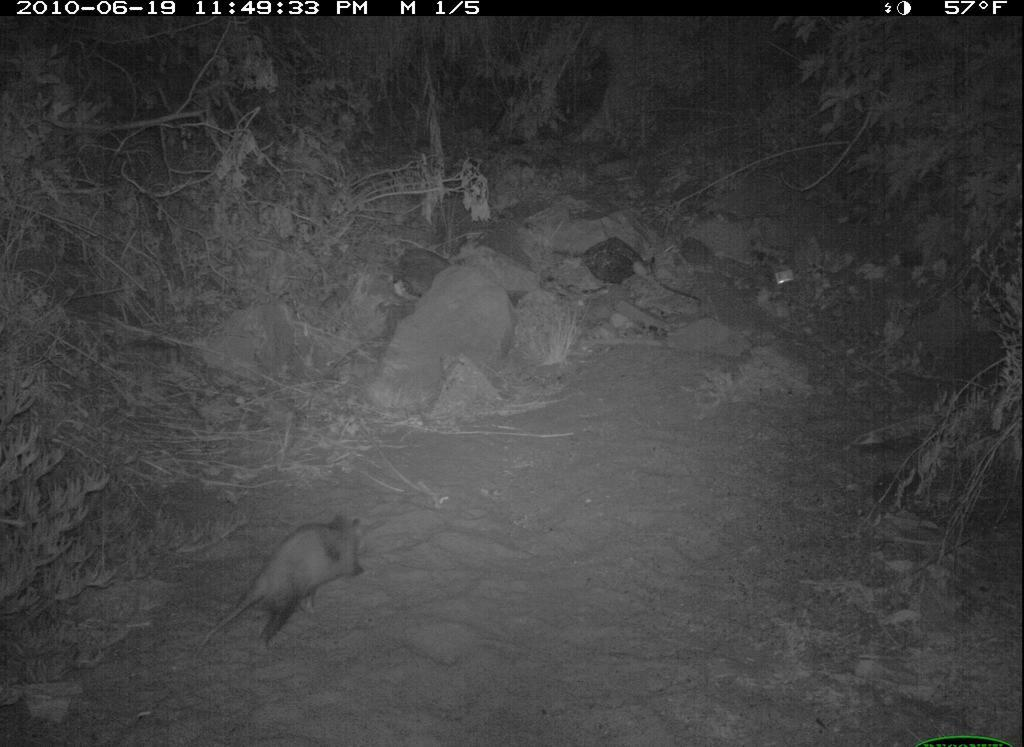opossum: (191, 505, 376, 662)
